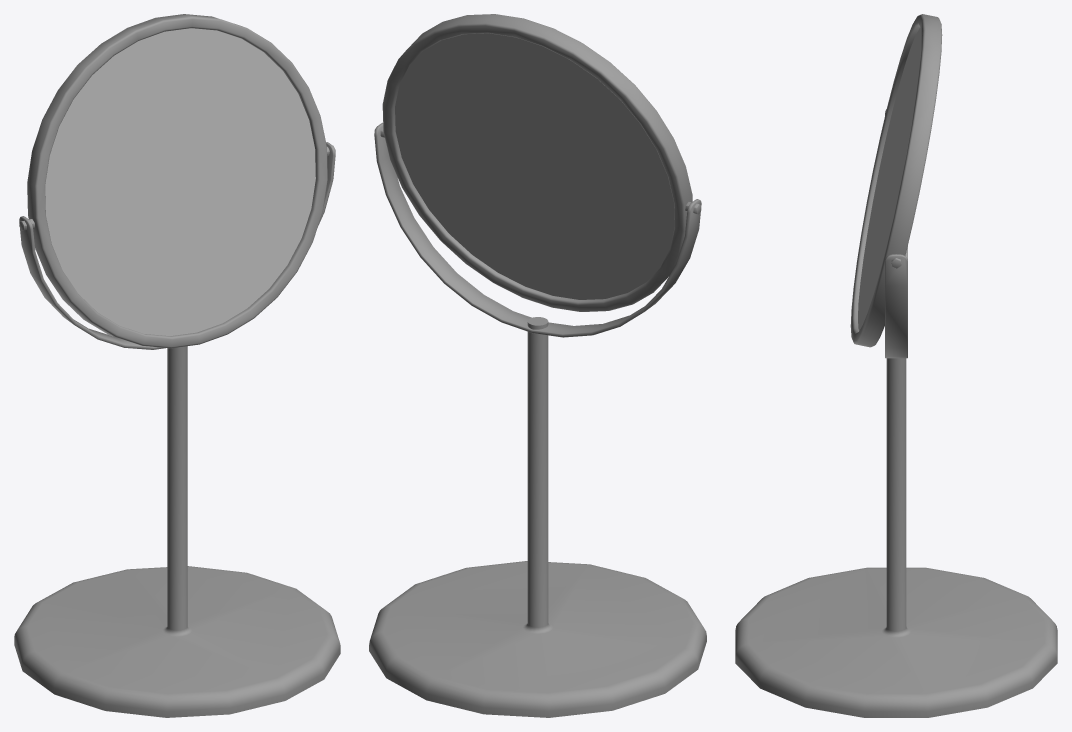
File: 5_material33_specchio.fbx
The picture shows the model from 3 angles, left to right: view 1: azimuth 30°, elevation 25°; view 2: azimuth 150°, elevation 25°; view 3: azimuth 270°, elevation 25°; orthographic projection. The views are drawn at different scales.
Parts seen in each view (by area): view 1: mirror; view 2: mirror; view 3: mirror.
Part boxes in pixels (x1,y1,x2,y2): mirror: (14, 14, 340, 717); mirror: (369, 14, 706, 717); mirror: (735, 14, 1057, 717).
Size of the model in its own units: 566 by 1072 by 505.
